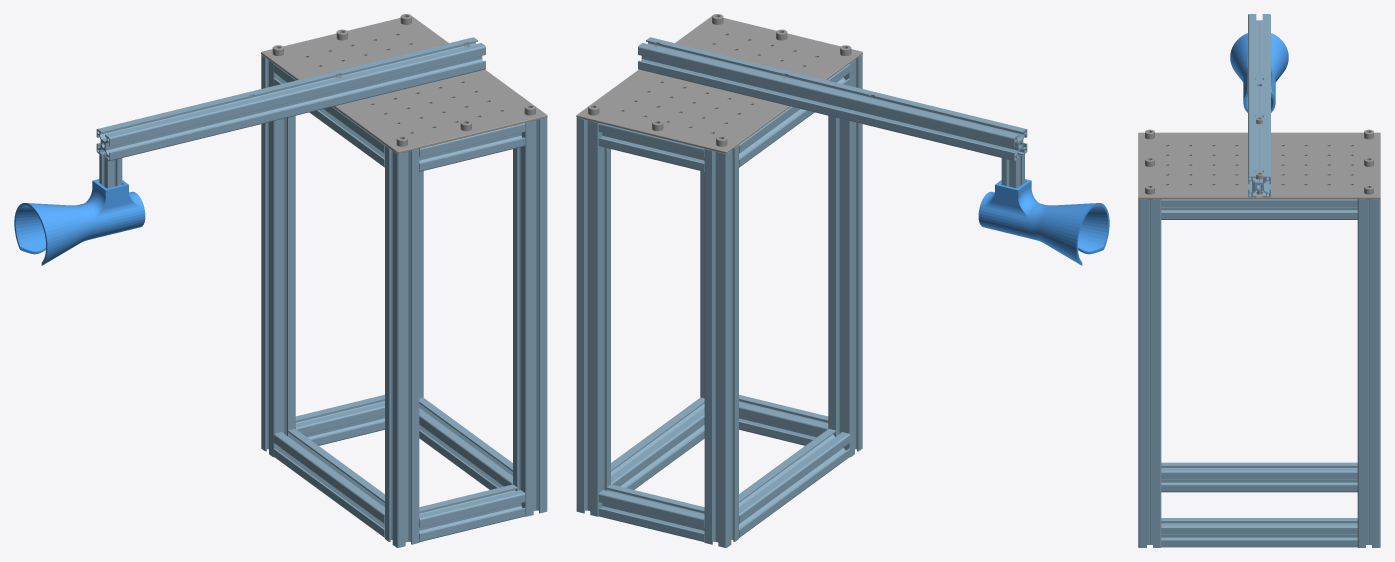
Rendered from docking_fixture.dae.
3 renders of one model, left to right at view 1: azimuth 30°, elevation 25°; view 2: azimuth 150°, elevation 25°; view 3: azimuth 270°, elevation 25°, orthographic. The views are drawn at different scales.
Visible parts, largest first — view 1: frame.002, frame.004, frame.003, frame.012, frame.001; view 2: frame.002, frame.004, frame.003, frame.012, frame.001; view 3: frame.002, frame.004, frame.003, frame.012.
Part boxes in pixels (x1,y1,x2,y2): frame.002: (261, 54, 547, 547); frame.004: (261, 16, 547, 153); frame.003: (96, 37, 485, 160); frame.012: (14, 179, 145, 265); frame.001: (99, 154, 122, 188); frame.002: (576, 54, 862, 547); frame.004: (576, 16, 862, 153); frame.003: (638, 37, 1027, 160); frame.012: (978, 179, 1109, 265); frame.001: (1001, 154, 1024, 188); frame.002: (1138, 193, 1380, 547); frame.004: (1138, 132, 1380, 199); frame.003: (1248, 14, 1270, 197); frame.012: (1230, 33, 1288, 112).
Bounding box in the file's own units: 0.596 × 0.315 × 0.533.
